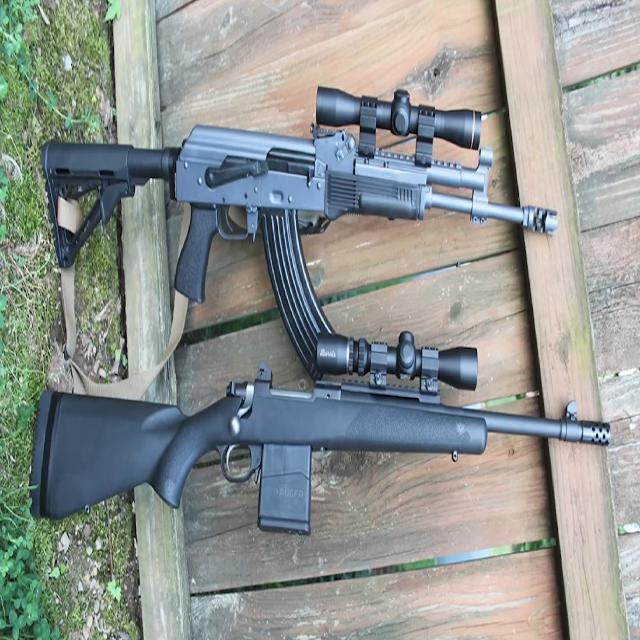rifle: (20, 322, 613, 542)
